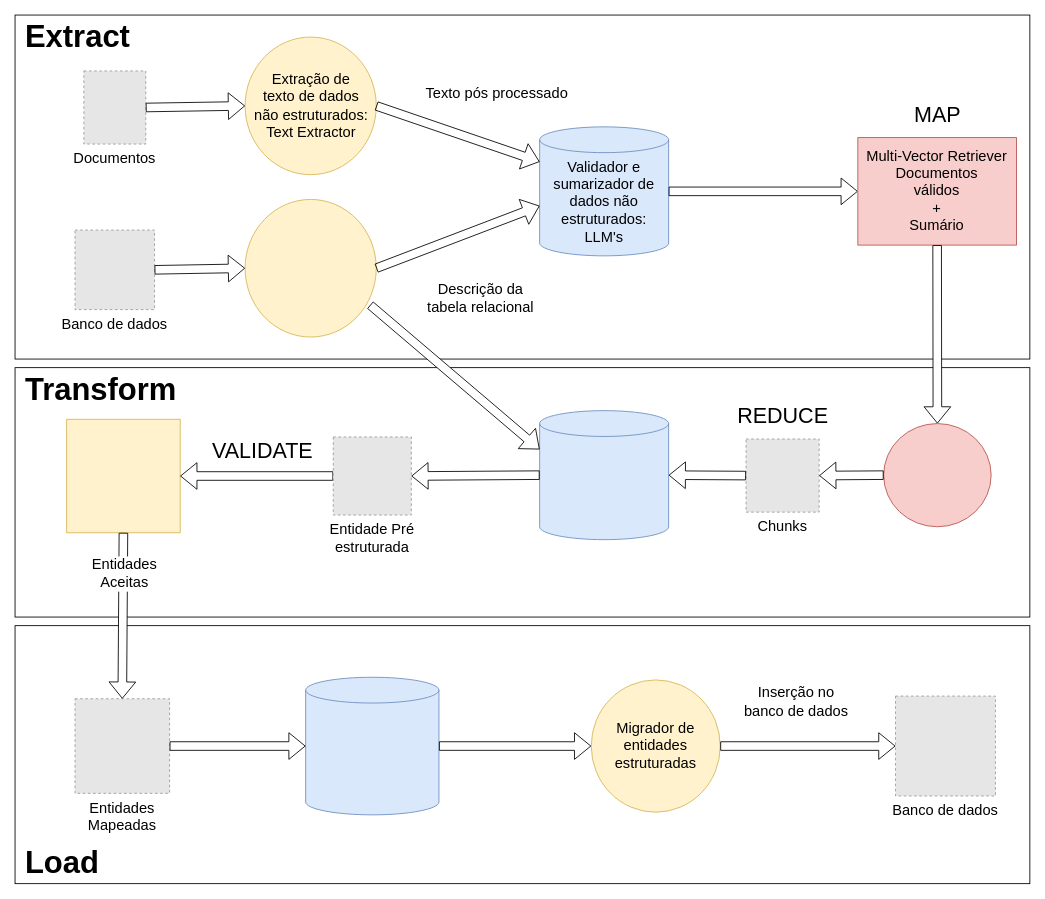
This 1045x899 diagram has some shape labels left out. Grey dashed boxes stand in for pictures. Each missing label, with the box of its shape:
Extração da descrição da estrutura da base de dados: SQL descriptor: (244, 199, 376, 337)
Mapeamento e geração de entidades: LLM's: (539, 410, 669, 540)
Segmentador de chunks: (883, 423, 991, 527)
Validador de entidades pré estruturadas: (66, 418, 180, 533)
Validador de modelos de linguagem: Checagem de alucinação: (305, 676, 439, 815)
